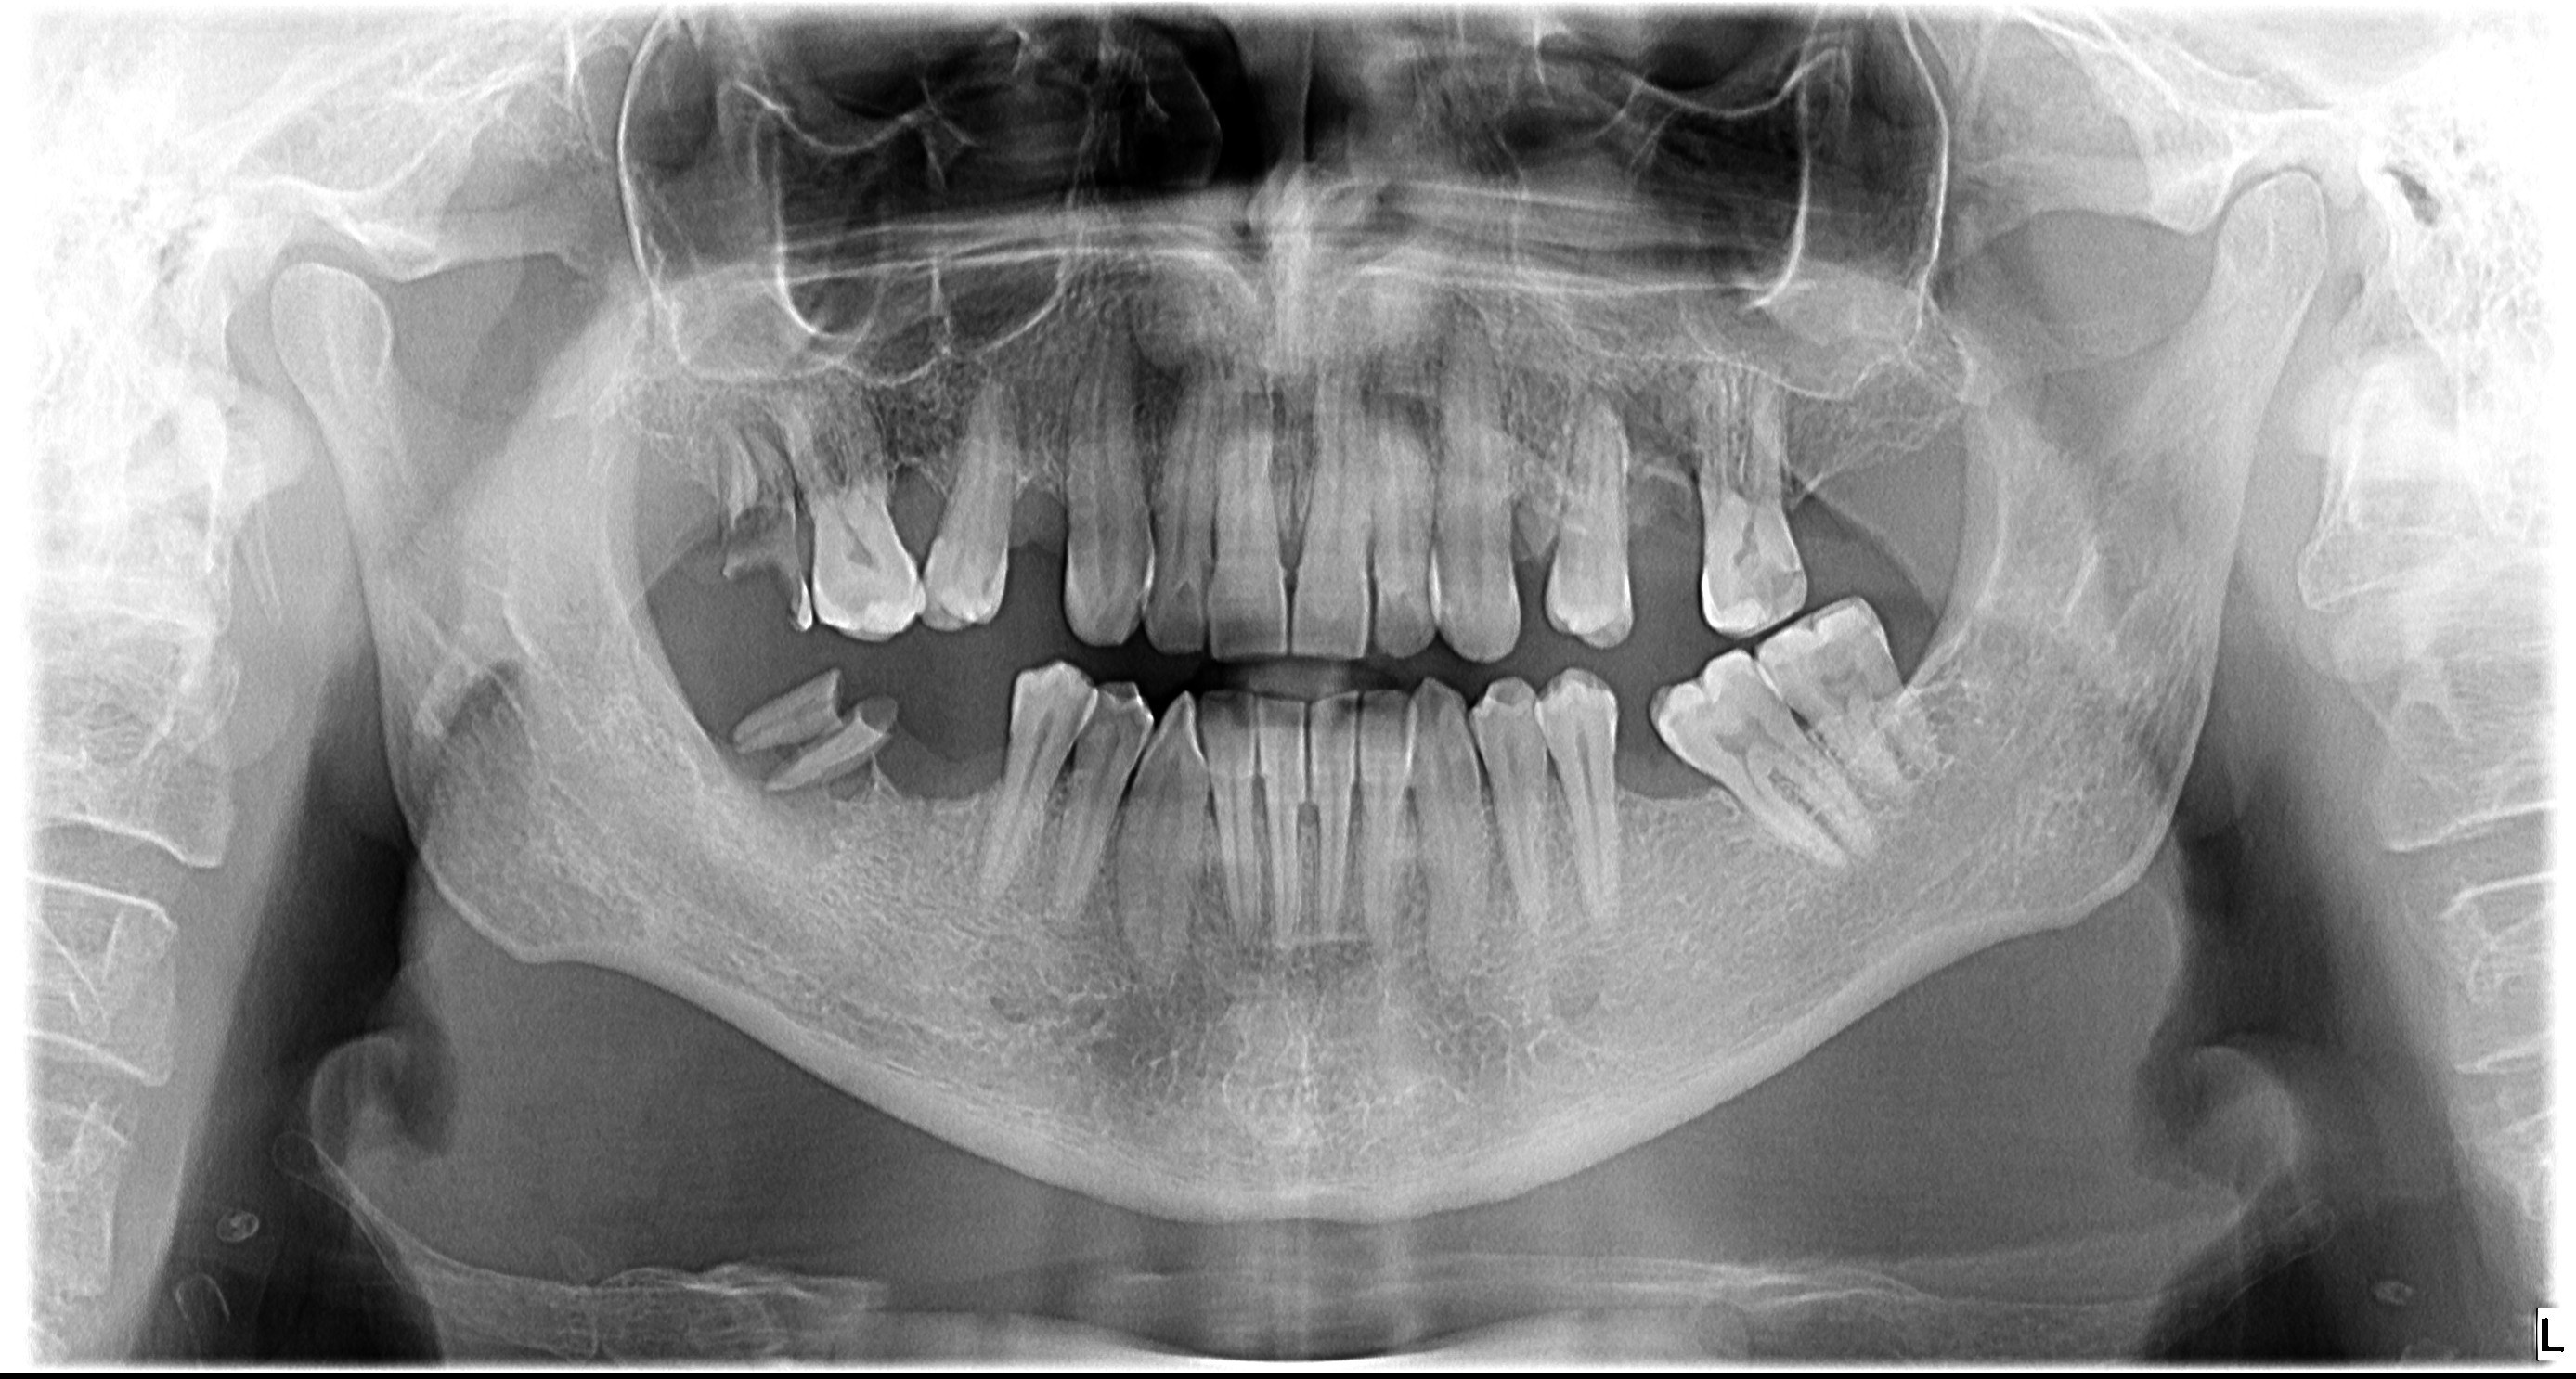API: (267, 141, 1060, 604)
CAR: (893, 281, 2576, 924), (835, 238, 2576, 851), (470, 262, 1470, 870), (307, 184, 1109, 817)
IMT: (762, 346, 2499, 1168), (712, 191, 2268, 764), (460, 170, 1527, 724), (385, 172, 1332, 683)
PRR: (388, 262, 1308, 906)
ROT: (307, 288, 1210, 1091), (285, 283, 1143, 1040)
